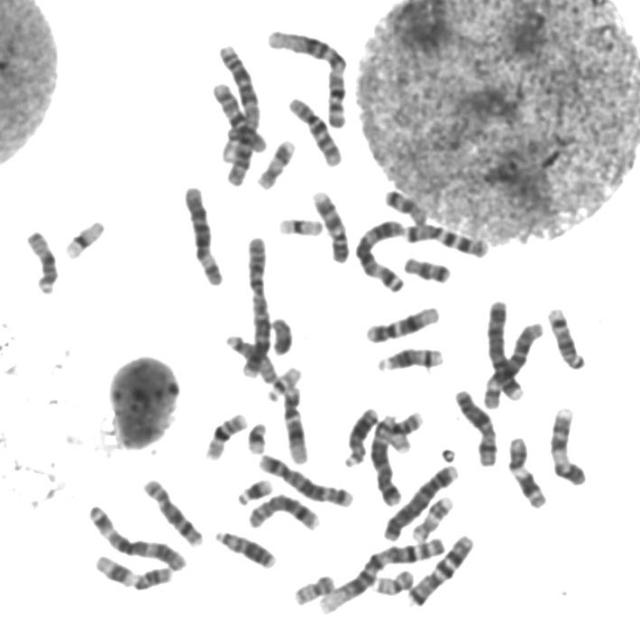A1: (313, 532, 450, 617), (260, 22, 350, 130)
A2: (211, 36, 261, 190), (236, 228, 272, 382)
A3: (82, 498, 189, 572), (350, 212, 408, 293)
B4: (378, 458, 460, 543), (482, 293, 526, 402)
B5: (253, 448, 356, 508), (365, 410, 404, 508)
C10: (205, 76, 257, 187), (282, 90, 344, 168)
C11: (502, 431, 549, 511), (89, 549, 175, 592)
C12: (359, 300, 442, 345), (278, 381, 310, 466)
C6: (478, 316, 545, 409), (178, 179, 226, 287)
C7: (401, 528, 476, 608), (400, 217, 490, 258)
C8: (137, 472, 206, 549), (241, 488, 321, 532)
C9: (544, 400, 590, 487), (306, 183, 352, 264)
D13: (209, 524, 278, 570), (339, 401, 380, 468)
D14: (542, 302, 586, 371), (372, 341, 446, 373)
D15: (220, 328, 280, 386), (20, 223, 60, 295)
E16: (198, 406, 250, 462), (380, 405, 424, 438)
E17: (252, 134, 296, 191), (406, 490, 454, 542)
E18: (380, 182, 429, 227), (398, 250, 452, 285)
F19: (59, 213, 107, 261), (272, 210, 326, 238)
F20: (289, 568, 337, 607), (367, 564, 416, 596)
G21: (232, 472, 275, 506), (242, 416, 268, 454)
G22: (373, 417, 417, 457), (262, 361, 303, 401)
X: (449, 382, 499, 468)
Y: (265, 310, 295, 356)
